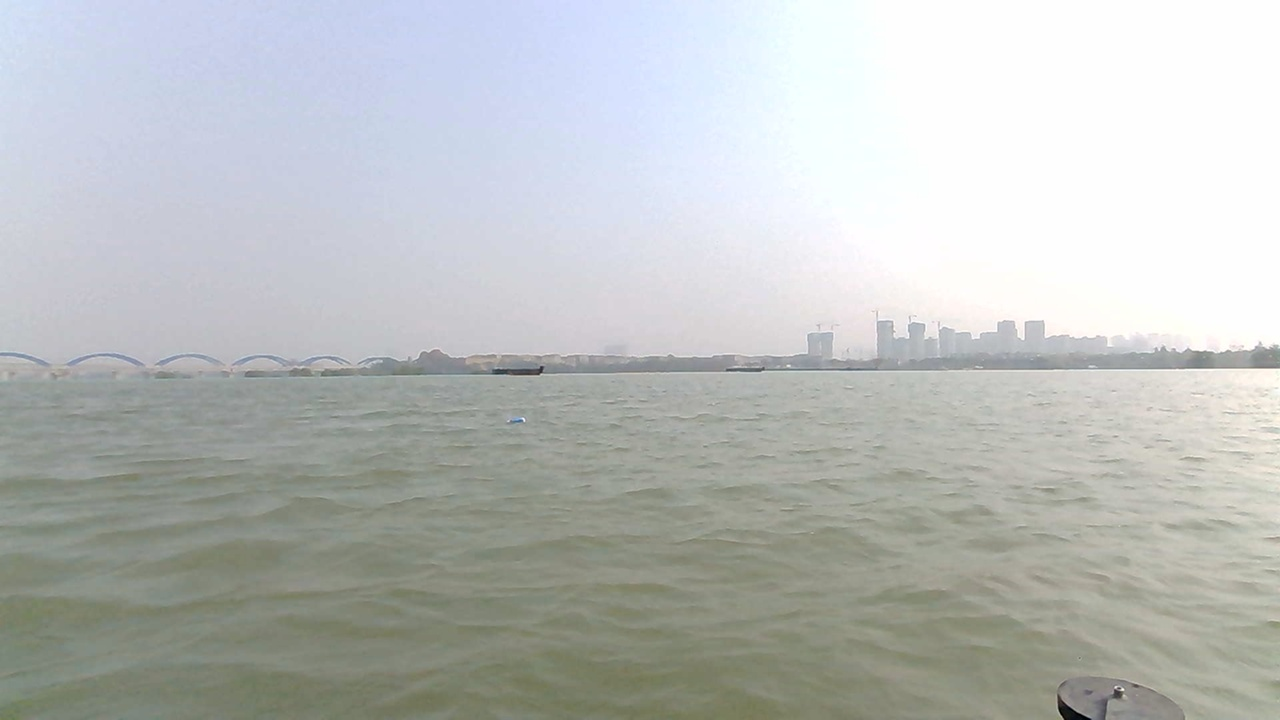bottle: (502, 412, 532, 427)
